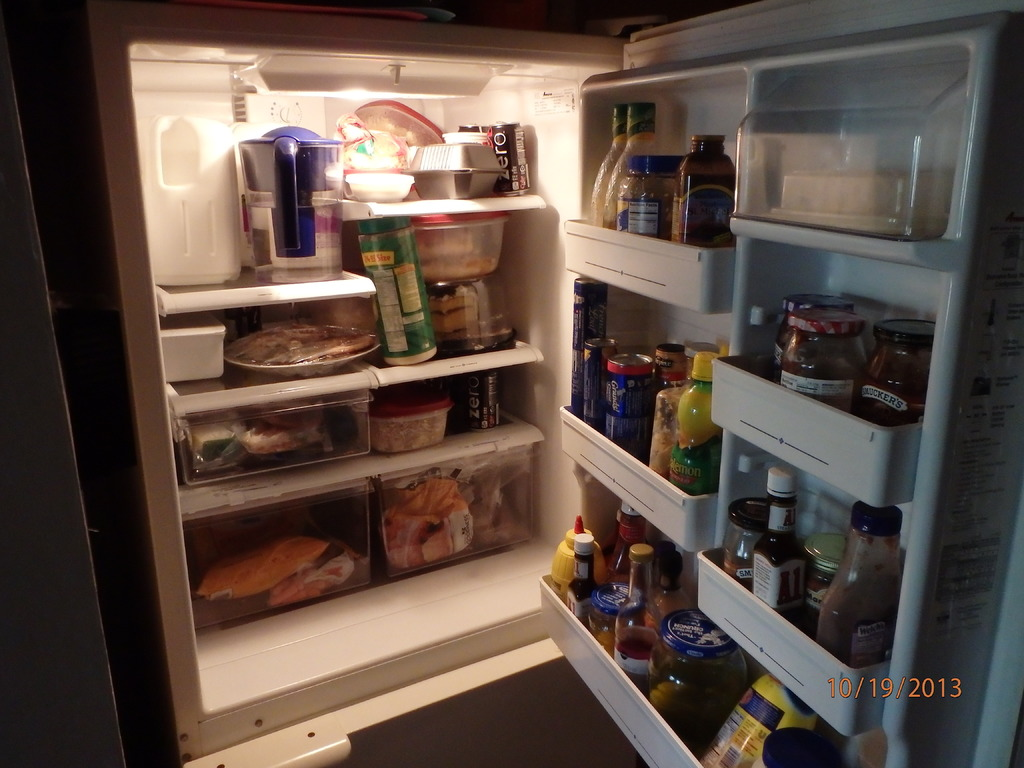refrigerator door: (626, 52, 958, 768)
